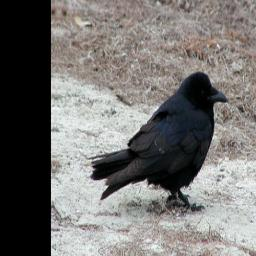Crow: (87, 60, 229, 216)
